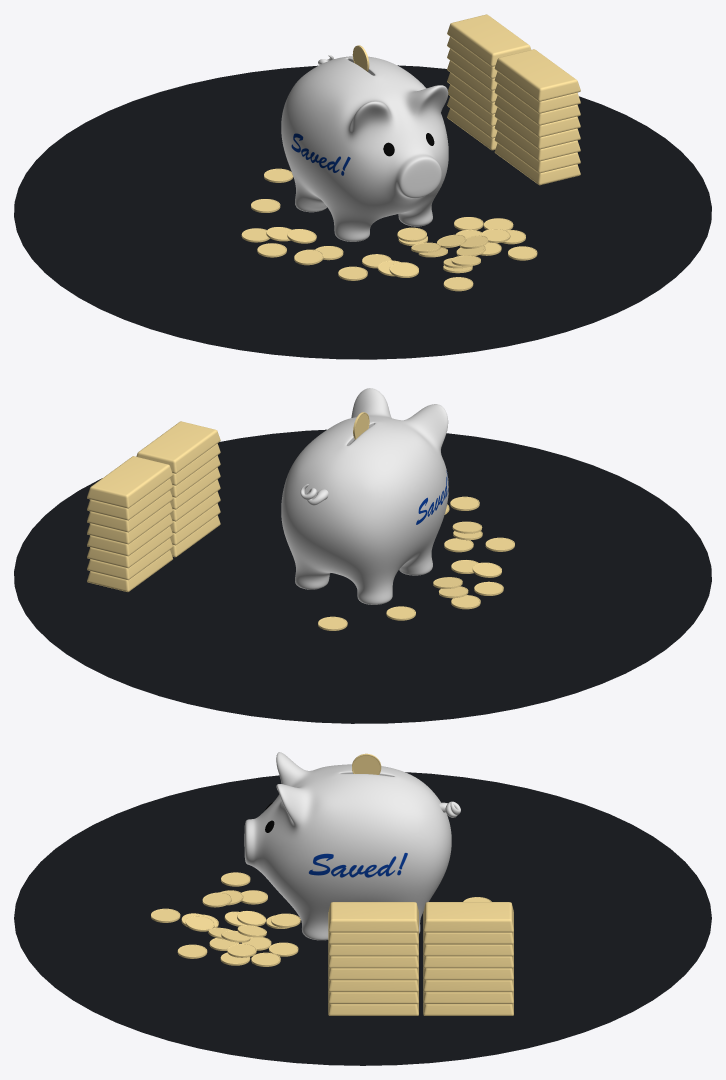
3 views of the same model, one above another, from view 1: azimuth 30°, elevation 25°; view 2: azimuth 150°, elevation 25°; view 3: azimuth 270°, elevation 25° (orthographic).
Parts seen in each view (by area): view 1: Object_2, Object_7, Object_5, Object_10, Object_8, Object_13, Object_16, Object_14, Object_12, Object_17, Object_9, Object_11; view 2: Object_2, Object_7, Object_5, Object_8, Object_10, Object_14, Object_16, Object_13; view 3: Object_2, Object_7, Object_5, Object_12, Object_19, Object_9, Object_17, Object_10, Object_13, Object_16, Object_8.
Boxes of the visible parts, <box> form: Object_2: <box>14,65,711,359</box>; Object_7: <box>281,56,448,241</box>; Object_5: <box>447,14,580,185</box>; Object_10: <box>251,199,537,277</box>; Object_8: <box>241,45,369,265</box>; Object_13: <box>266,227,473,291</box>; Object_16: <box>287,228,510,268</box>; Object_14: <box>257,243,480,266</box>; Object_12: <box>454,217,513,237</box>; Object_17: <box>411,235,488,256</box>; Object_9: <box>338,242,501,280</box>; Object_11: <box>264,168,525,245</box>; Object_2: <box>14,429,711,723</box>; Object_7: <box>281,388,448,604</box>; Object_5: <box>87,421,220,591</box>; Object_8: <box>353,412,501,609</box>; Object_10: <box>386,521,482,620</box>; Object_14: <box>451,560,503,595</box>; Object_16: <box>433,538,473,588</box>; Object_13: <box>438,496,479,598</box>; Object_2: <box>14,772,711,1065</box>; Object_7: <box>244,752,451,940</box>; Object_5: <box>328,902,513,1015</box>; Object_12: <box>242,937,298,966</box>; Object_19: <box>308,852,407,877</box>; Object_9: <box>209,872,250,950</box>; Object_17: <box>208,911,266,942</box>; Object_10: <box>177,892,231,958</box>; Object_13: <box>151,908,300,927</box>; Object_16: <box>227,890,267,957</box>; Object_8: <box>352,753,381,774</box>.
Bounding box in the file's own units: 0.8734 × 0.2276 × 0.8734.
Materials: 6 (1 with a texture image).
